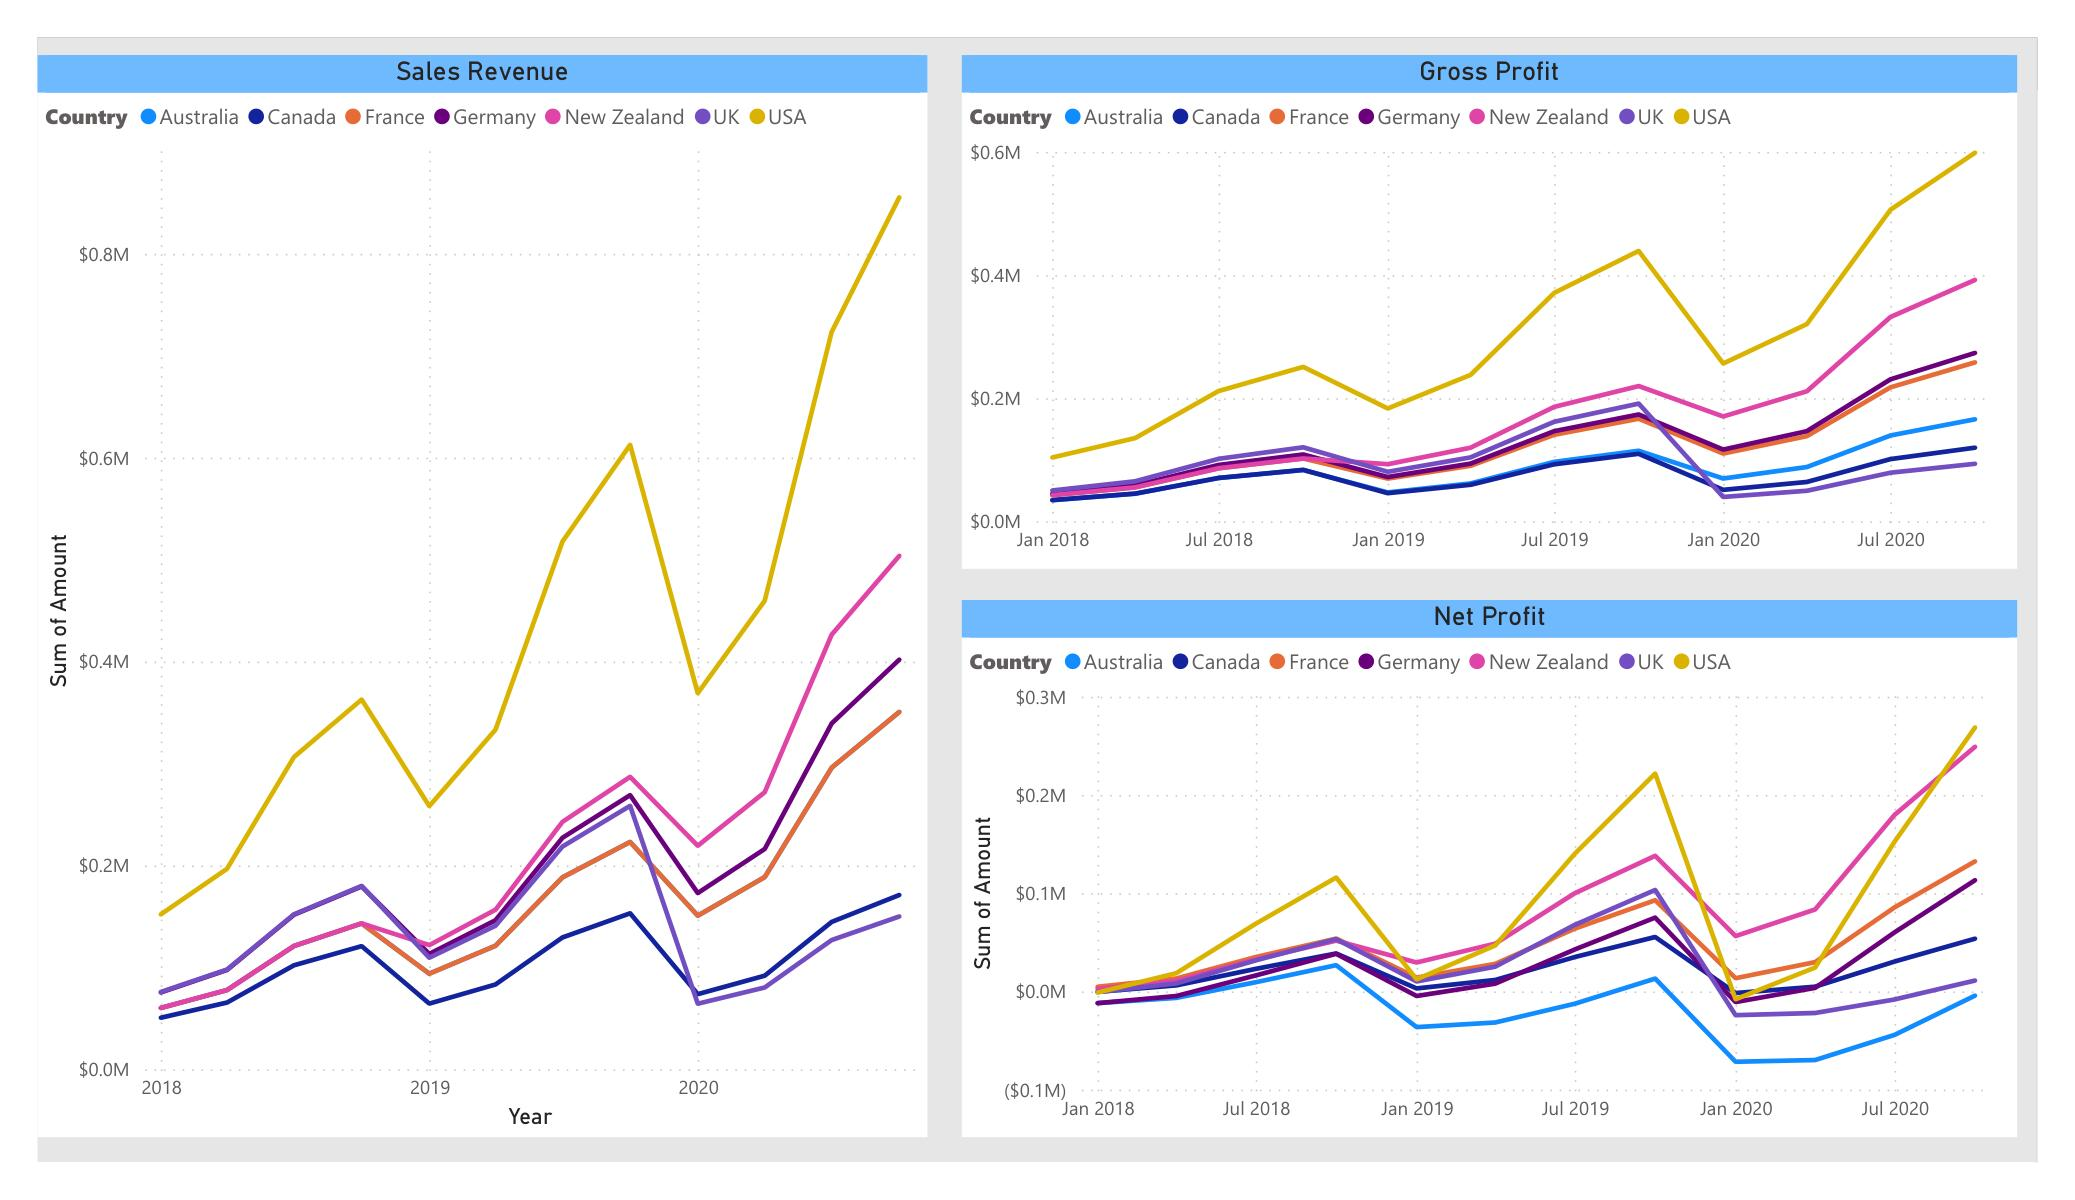

This screenshot's page, from the dashboard's own definition file:
{"tool":"powerbi","page":{"name":"Cross-Country","canvas":[1280,720],"ordinal":2},"visuals":[{"type":"lineChart","title":"Sales Revenue","fields":{"Category":["tbl_Calendar.Date.Variation.Date Hierarchy.Year","tbl_Calendar.Date.Variation.Date Hierarchy.Quarter","tbl_Calendar.Date.Variation.Date Hierarchy.Month","tbl_Calendar.Date.Variation.Date Hierarchy.Day"],"Y":["Sum(tbl_GL.Amount)"],"Series":["tbl_territory.Country"]},"box":[0,11,570.3,693.5],"z":0},{"type":"lineChart","title":"Gross Profit","fields":{"Y":["Sum(tbl_GL.Amount)"],"Category":["tbl_Calendar.Date.Variation.Date Hierarchy.Year","tbl_Calendar.Date.Variation.Date Hierarchy.Quarter","tbl_Calendar.Date.Variation.Date Hierarchy.Month","tbl_Calendar.Date.Variation.Date Hierarchy.Day"],"Series":["tbl_territory.Country"]},"box":[592.2,11,675.3,329.4],"z":1000},{"type":"lineChart","title":"Net Profit","fields":{"Y":["Sum(tbl_GL.Amount)"],"Category":["tbl_Calendar.Date.Variation.Date Hierarchy.Year","tbl_Calendar.Date.Variation.Date Hierarchy.Quarter","tbl_Calendar.Date.Variation.Date Hierarchy.Month","tbl_Calendar.Date.Variation.Date Hierarchy.Day"],"Series":["tbl_territory.Country"]},"box":[592.2,360.5,675.3,344],"z":2000}]}

Visuals, with their boxes in screenshot pixels (x1, y1, x2, y2):
"Sales Revenue" lineChart: 38:55:929:1138
"Gross Profit" lineChart: 963:55:2018:569
"Net Profit" lineChart: 963:601:2018:1138
